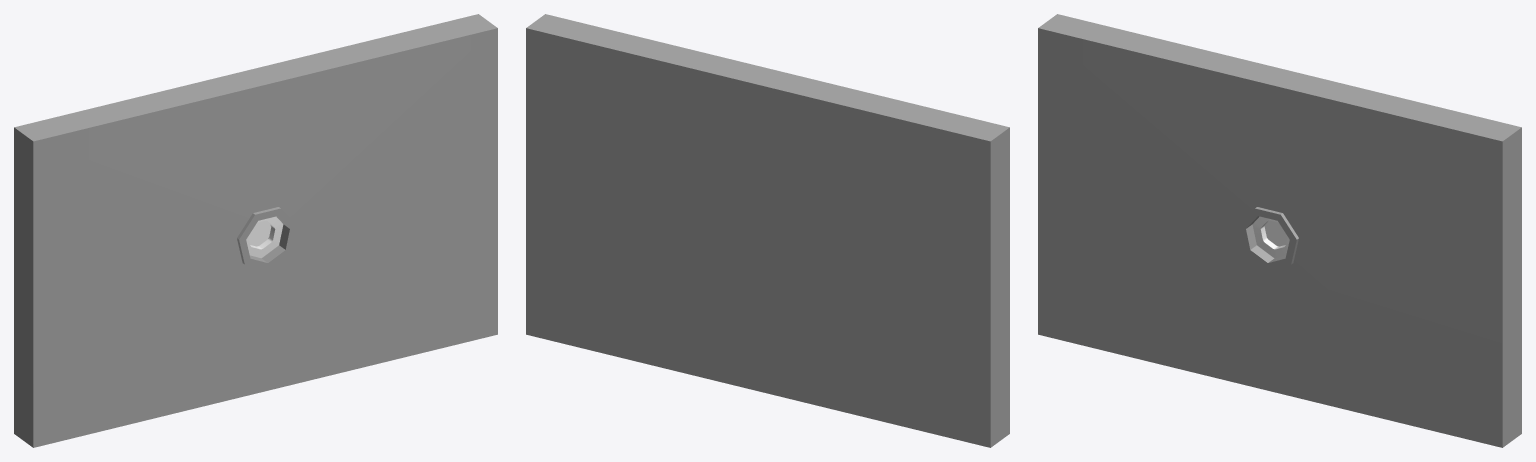
File: sasikomiguti03.fbx
The picture shows the model from 3 angles, left to right: view 1: azimuth 30°, elevation 25°; view 2: azimuth 150°, elevation 25°; view 3: azimuth 330°, elevation 25°; orthographic projection.
Parts seen in each view (by area): view 1: polySurface13; view 2: polySurface13; view 3: polySurface13.
Boxes of the visible parts, bbox=[...] form: polySurface13: bbox=[14, 14, 497, 447]; polySurface13: bbox=[526, 14, 1009, 447]; polySurface13: bbox=[1038, 14, 1521, 447].
Bounding box in the file's own units: 39.83 × 25.11 × 3.23.
3 materials, 2 textured.
